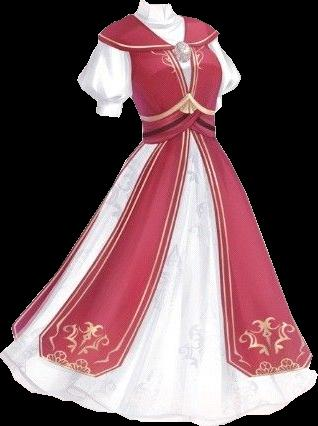Bodice: (98, 0, 222, 143)
Hemline: (38, 129, 193, 379), (192, 130, 314, 378), (2, 360, 317, 425)
Neckline: (132, 14, 193, 99), (139, 93, 216, 120), (141, 0, 169, 9)
Skirt: (0, 126, 317, 425)
Sleeve: (77, 38, 130, 117)
Sleeveline: (125, 50, 132, 94)
Waistline: (140, 124, 215, 146), (98, 36, 167, 51), (189, 31, 222, 47)
